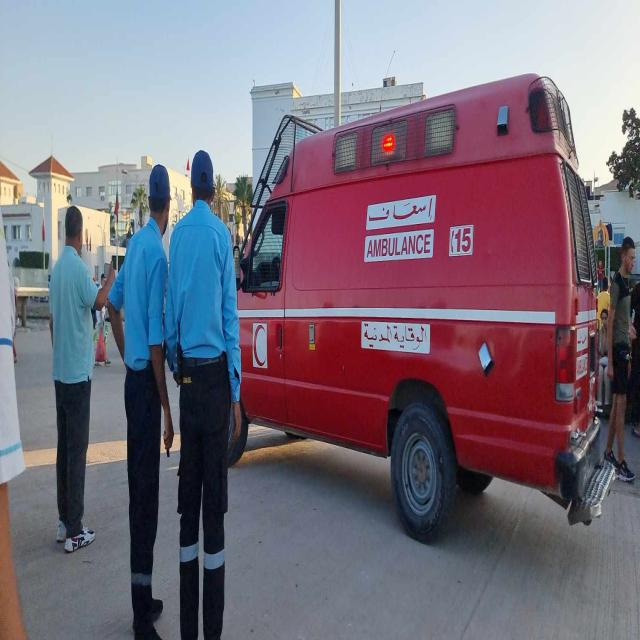ambulance: (236, 81, 608, 546)
